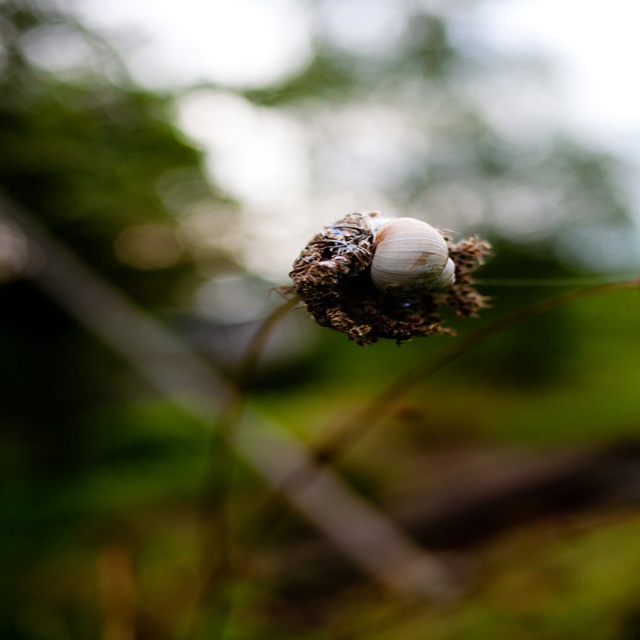Snail: (369, 215, 459, 299)
